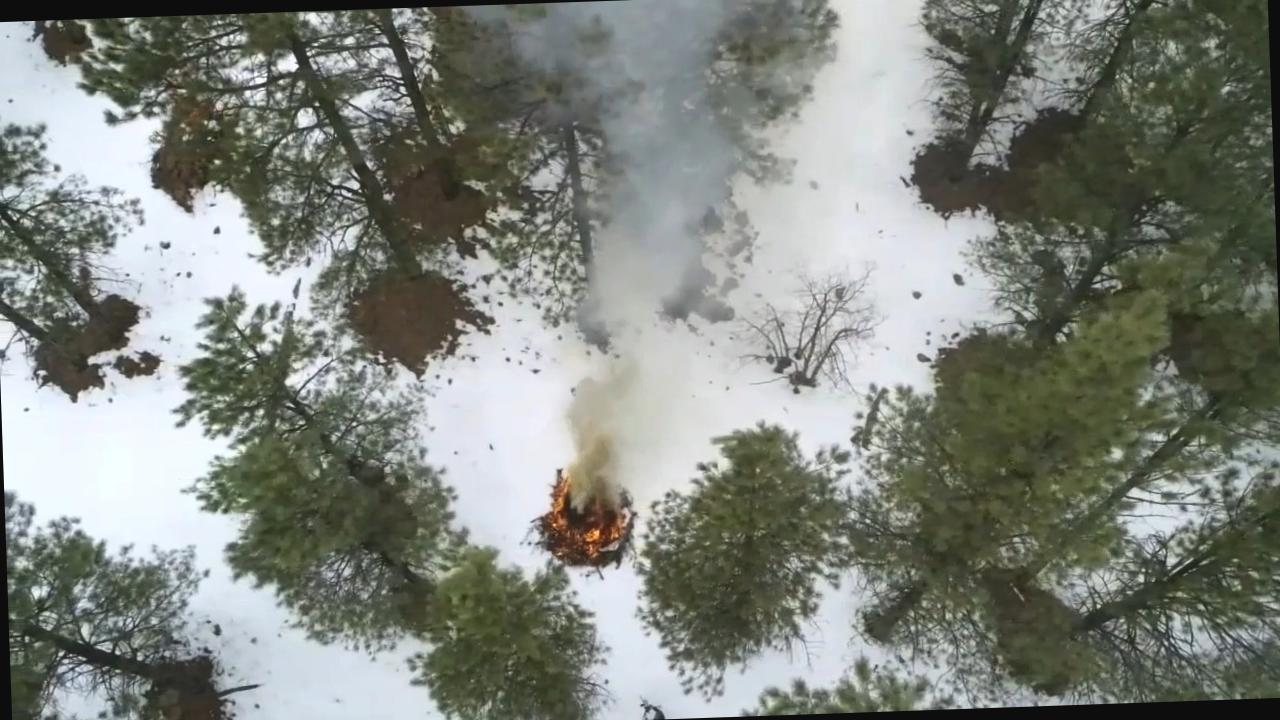fire: (540, 463, 640, 566)
smoke: (517, 0, 762, 164), (572, 159, 734, 305)
